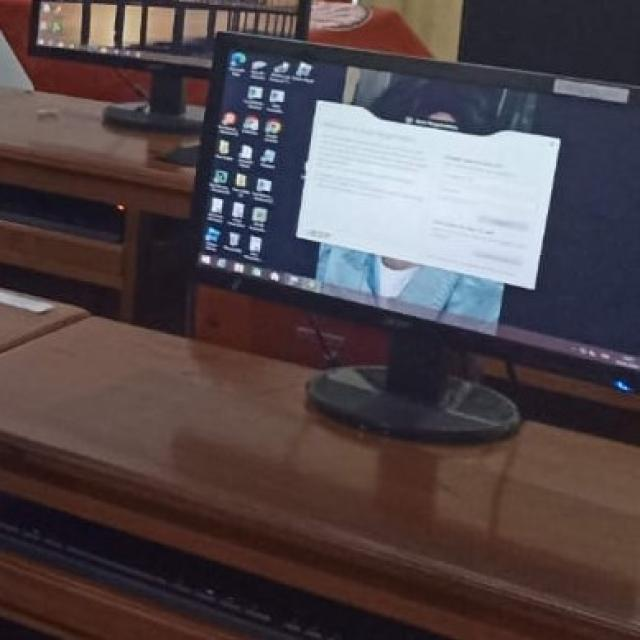onscreen: (198, 37, 639, 368)
